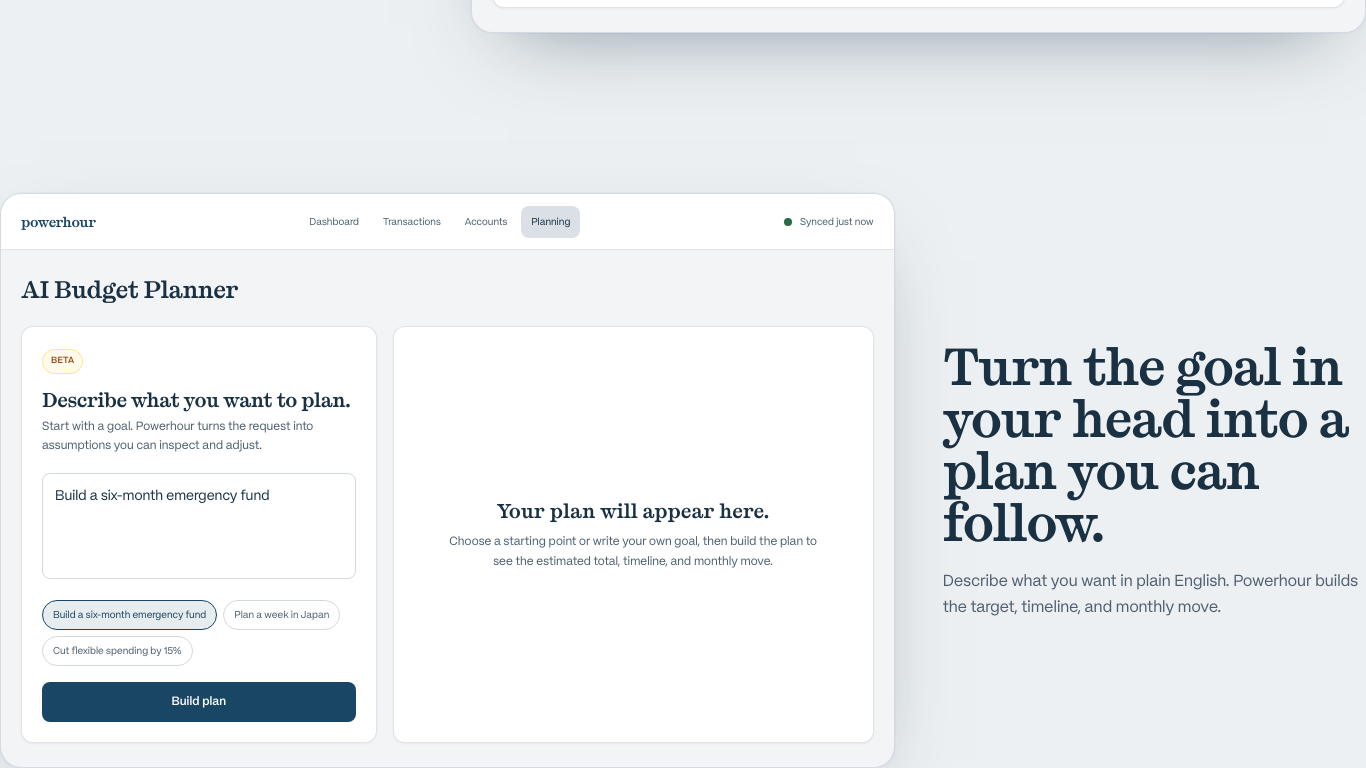
Test case: ProductWorkspace › builds the selected planner result and saves it as a target
The image size is (1366, 768).
(page scrolled)
Click the button "Plan a week in Japan".
click(282, 615)  # box [223,600,340,630]
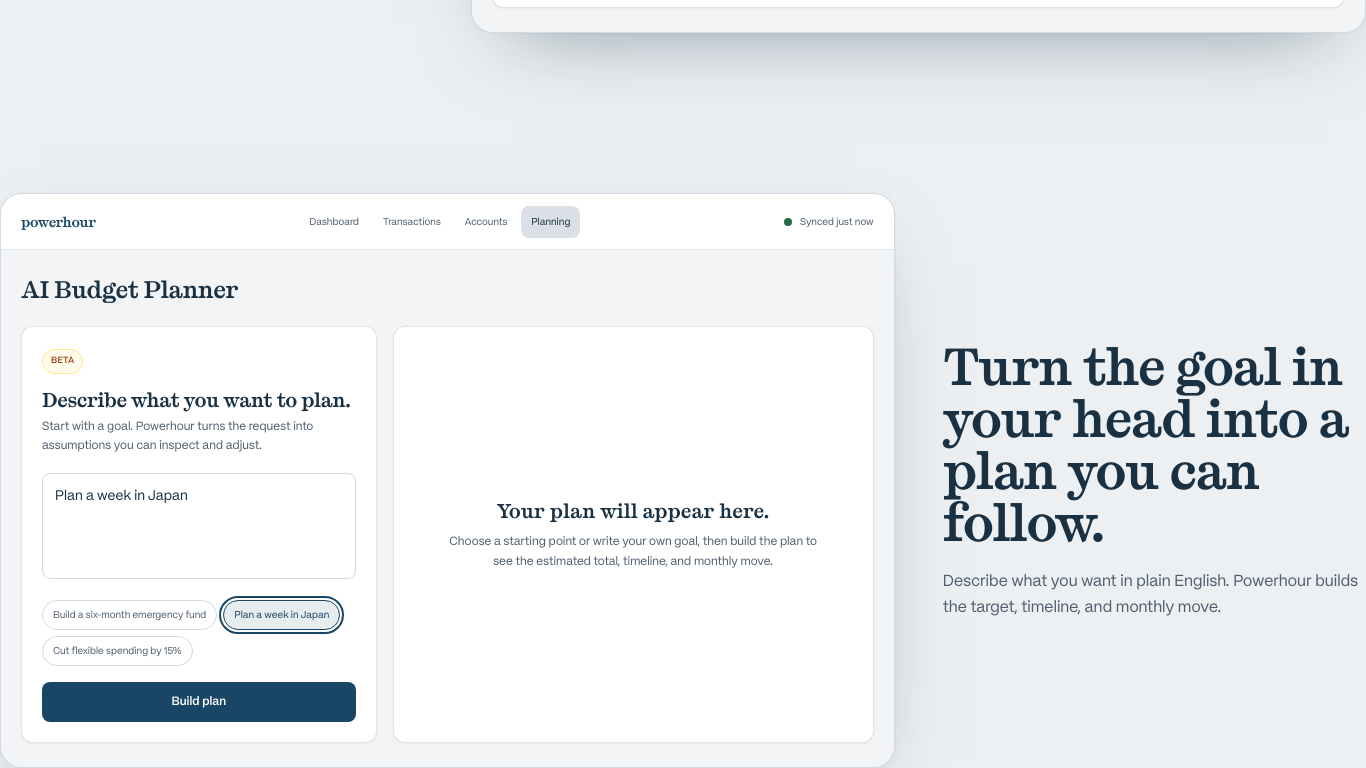
Click the button "Build plan".
click(199, 702)  # box [42,682,356,722]
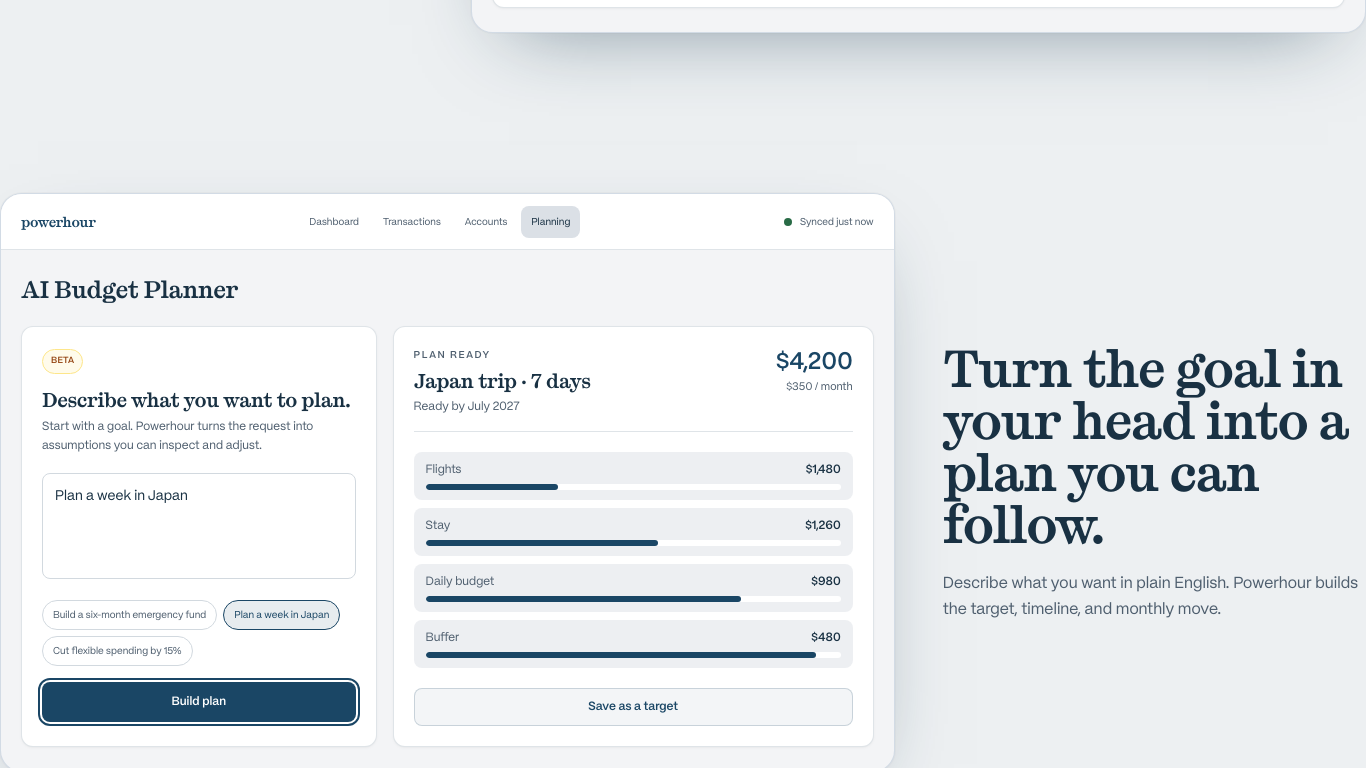
Expected: the heading "Japan trip · 7 days" is shown, [414,367,591,395]
Click the button "Save as a target".
click(633, 707)  # box [414,688,853,726]
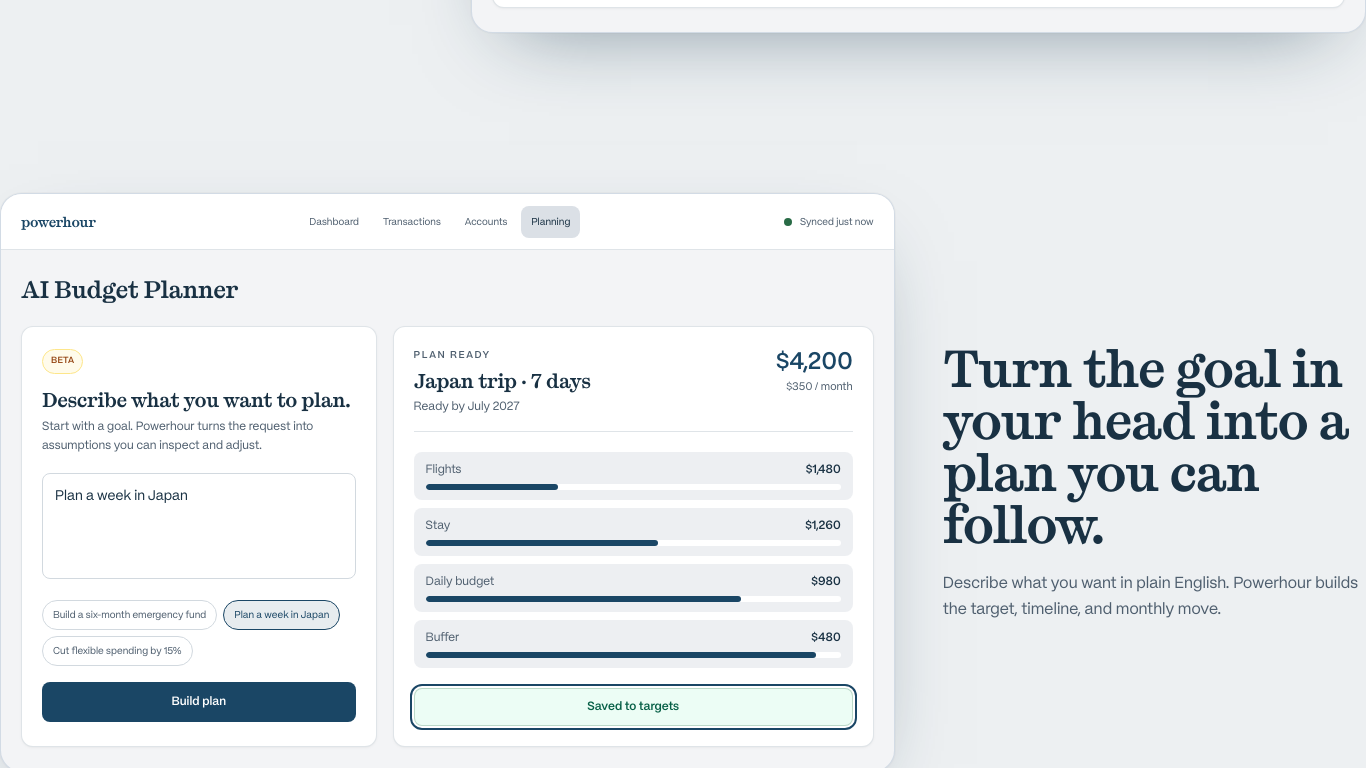
Expected: the button "Saved to targets" is shown, [414,688,853,726]
